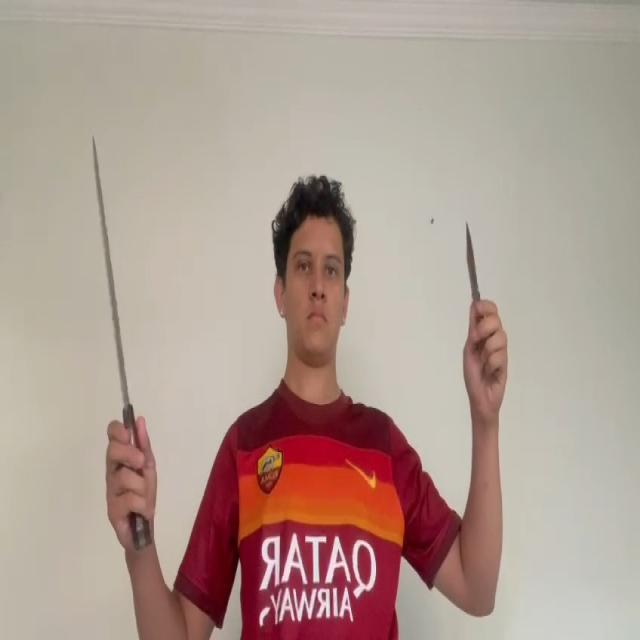knife: (92, 134, 130, 412), (466, 222, 480, 292)
